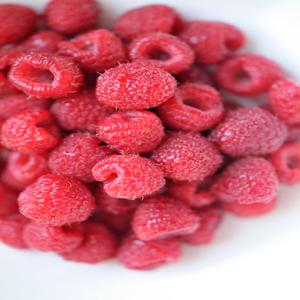raspb: (1, 23, 300, 276)
